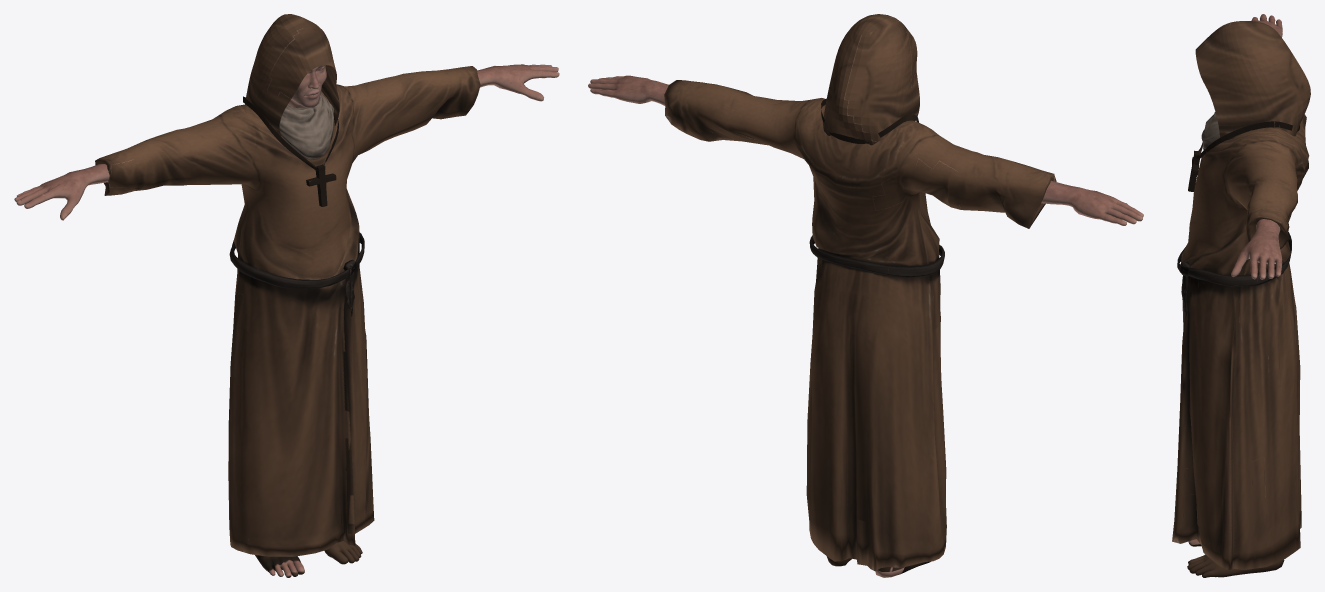
The model's file is Monk.fbx.
3 renders of one model, left to right at view 1: azimuth 30°, elevation 25°; view 2: azimuth 150°, elevation 25°; view 3: azimuth 270°, elevation 25°, orthographic. The views are drawn at different scales.
Visible parts, largest first — view 1: Monk_base; view 2: Monk_base; view 3: Monk_base.
Part boxes in pixels (x1,y1,x2,y2): Monk_base: [14, 14, 559, 577]; Monk_base: [588, 14, 1143, 577]; Monk_base: [1172, 14, 1310, 577].
Size of the model in its own units: 712 by 668 by 157.
Materials: 1 (1 with a texture image).
